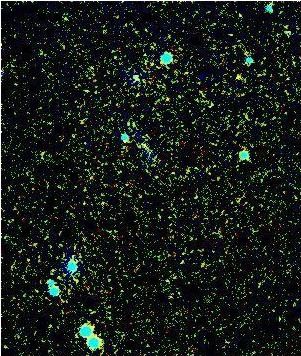star: (219, 58, 249, 88)
